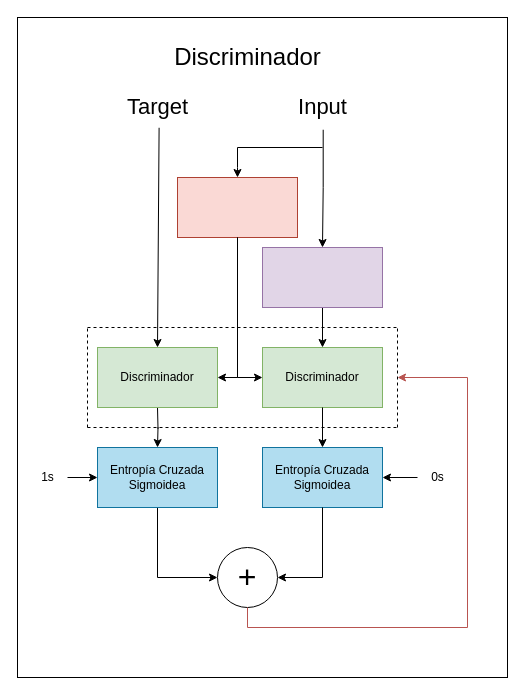
The diagram is 525 pixels wide and 695 high, and some of its shapes have lost their labels. The centre of each missing label's shape, as x and y in pixels:
"Bilinear Upscaling" belongs at point 237,207.
"Generador" belongs at point 322,277.
